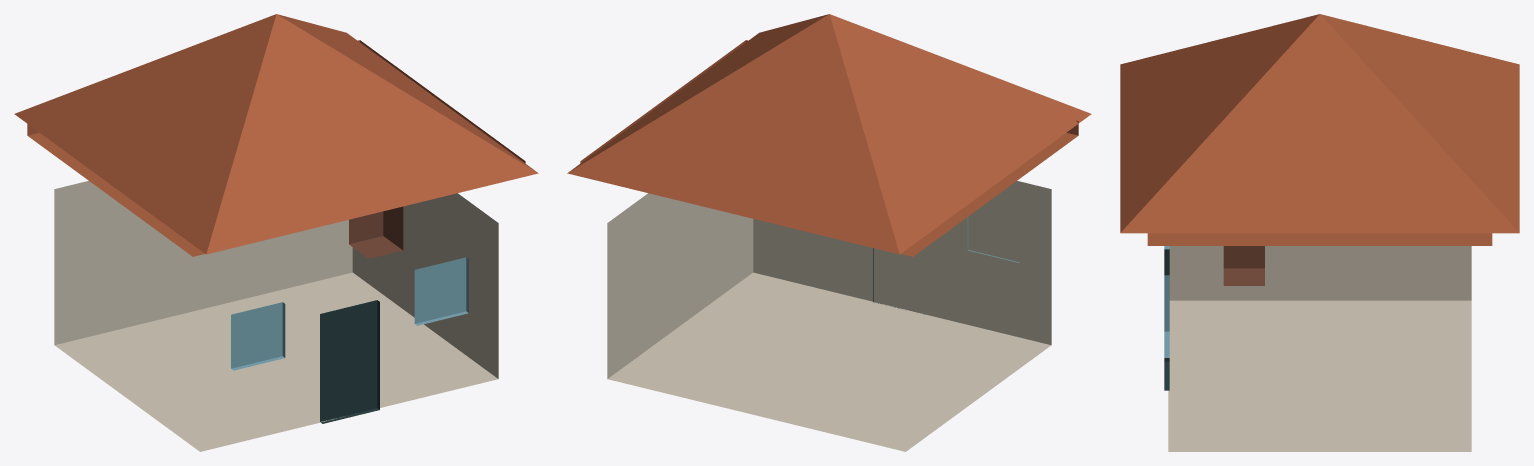
The model's file is cottage_scholar.glb.
3 renders of one model, left to right at view 1: azimuth 30°, elevation 25°; view 2: azimuth 150°, elevation 25°; view 3: azimuth 270°, elevation 25°, orthographic. The views are drawn at different scales.
Visible parts, largest first — view 1: cottage_scholar; view 2: cottage_scholar; view 3: cottage_scholar.
Boxes of the visible parts, x1=… form: cottage_scholar: x1=14, y1=14, x2=538, y2=451; cottage_scholar: x1=567, y1=14, x2=1091, y2=451; cottage_scholar: x1=1120, y1=14, x2=1519, y2=451.
Bounding box in the file's own units: 2.9 × 2.9 × 2.9.
